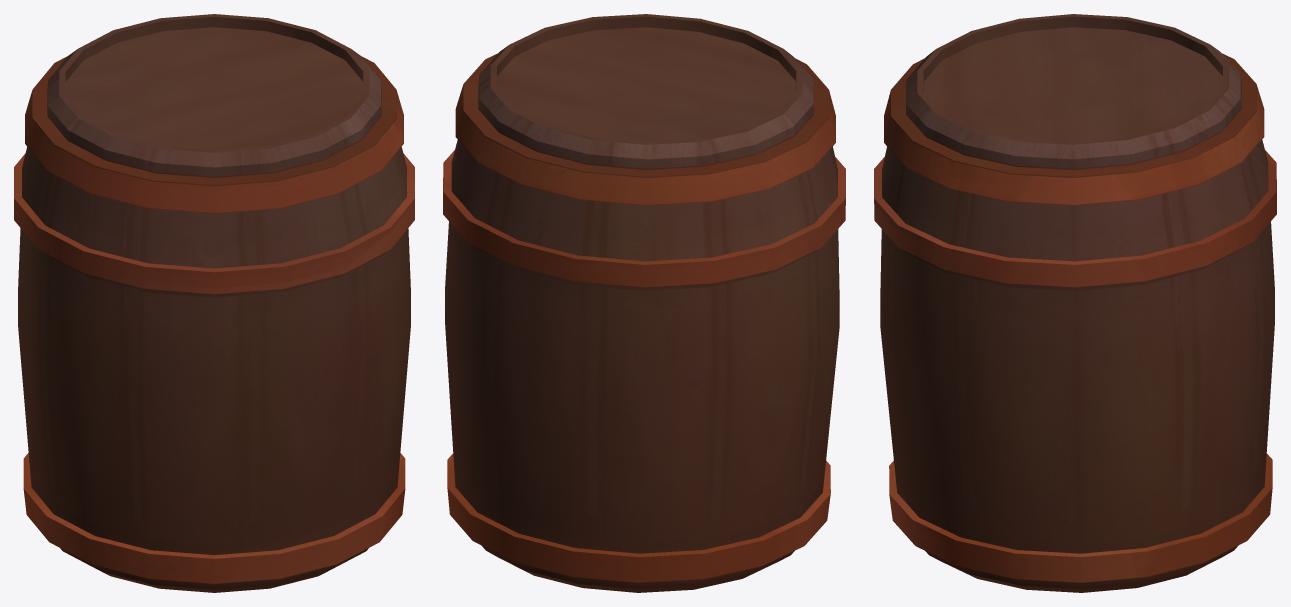
File: Barrel.fbx
The picture shows the model from 3 angles, left to right: view 1: azimuth 30°, elevation 25°; view 2: azimuth 150°, elevation 25°; view 3: azimuth 270°, elevation 25°; orthographic projection.
Parts seen in each view (by area): view 1: Barrel.006; view 2: Barrel.006; view 3: Barrel.006.
Boxes of the visible parts, <box> form: Barrel.006: <box>14,14,414,592</box>; Barrel.006: <box>443,14,845,592</box>; Barrel.006: <box>874,14,1276,592</box>.
Bounding box in the file's own units: 169 × 205 × 167.
